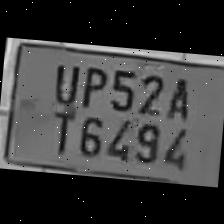2: (134, 67, 166, 115)
4: (158, 120, 191, 168), (103, 111, 133, 160)
5: (104, 62, 138, 110)
6: (72, 108, 104, 158)
9: (130, 116, 162, 162)
A: (162, 71, 193, 120)
P: (77, 58, 108, 110)
T: (45, 104, 78, 155)
U: (47, 56, 82, 105)
